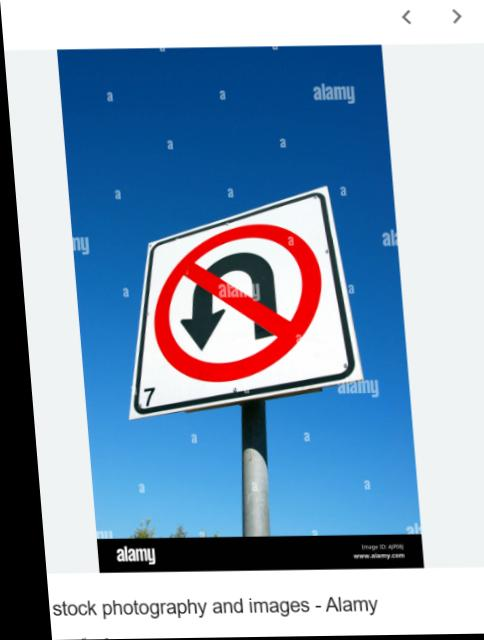not_u_turn_left: (145, 236, 327, 378)
